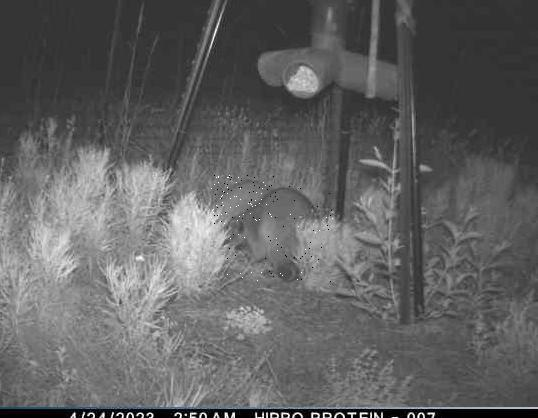Raccoon: (225, 186, 334, 289), (211, 176, 276, 226)
